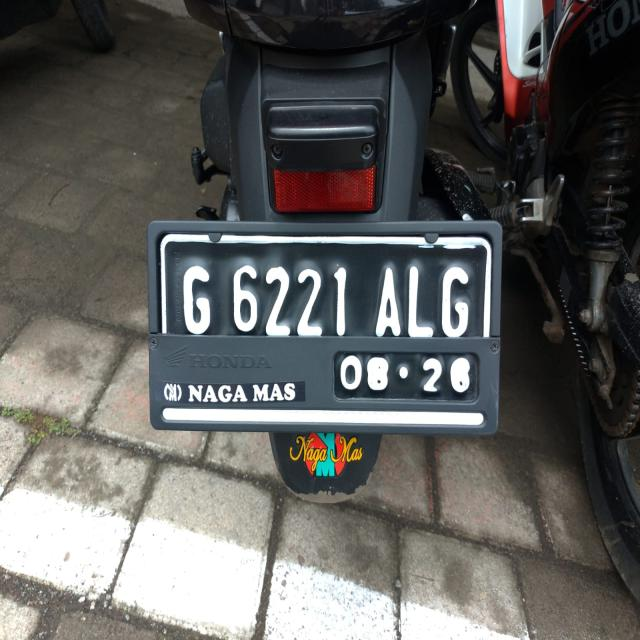plate: (145, 222, 499, 436)
